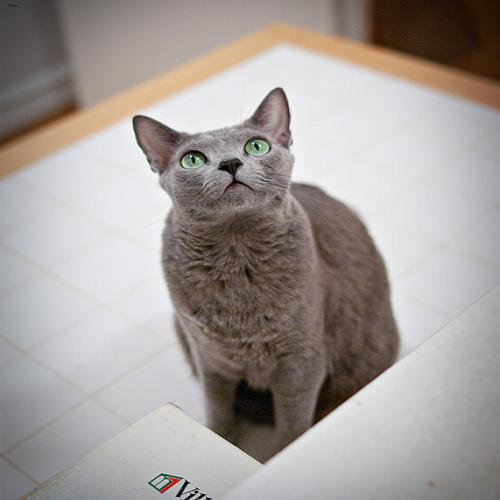rblue: (122, 82, 336, 227)
